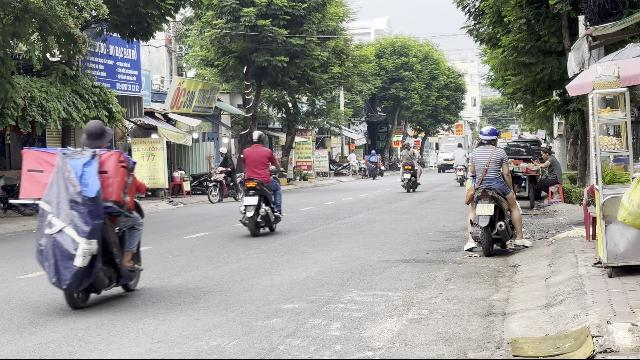helmet: (478, 126, 498, 146), (249, 130, 265, 144)
licenseplate: (476, 205, 494, 215), (243, 197, 257, 205)
motorcyclist: (31, 117, 149, 311), (461, 124, 525, 256), (236, 129, 284, 234)
nohelmet: (80, 120, 112, 150)
